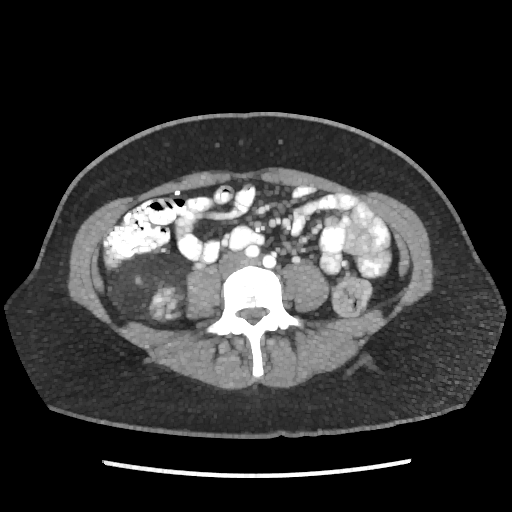Lesion: (104, 264, 188, 321)
